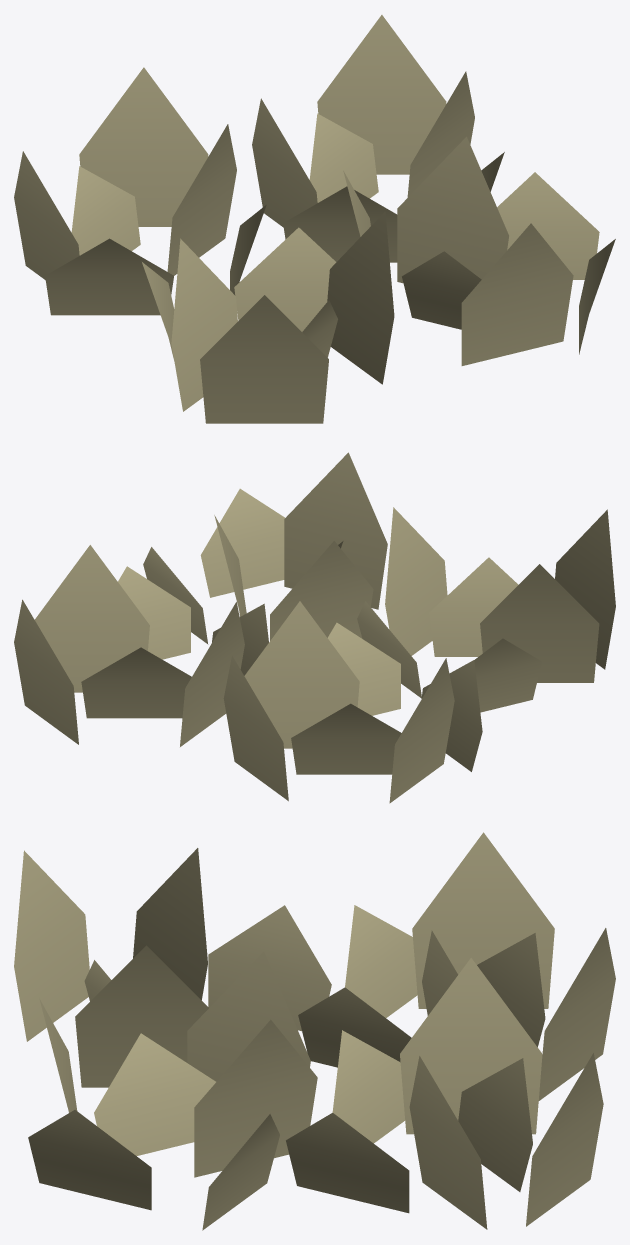
File: dry_c.glb
3 views of the same model, one above another, from view 1: azimuth 30°, elevation 25°; view 2: azimuth 150°, elevation 25°; view 3: azimuth 270°, elevation 25° (orthographic). The views are drawn at different scales.
Parts seen in each view (by area): view 1: dry_c; view 2: dry_c; view 3: dry_c.
Boxes of the visible parts, box(x1,y1,x2,y2) form: dry_c: box(14, 15, 615, 423); dry_c: box(14, 452, 615, 803); dry_c: box(14, 832, 615, 1230).
Bounding box in the file's own units: 15.63 × 4.68 × 16.
